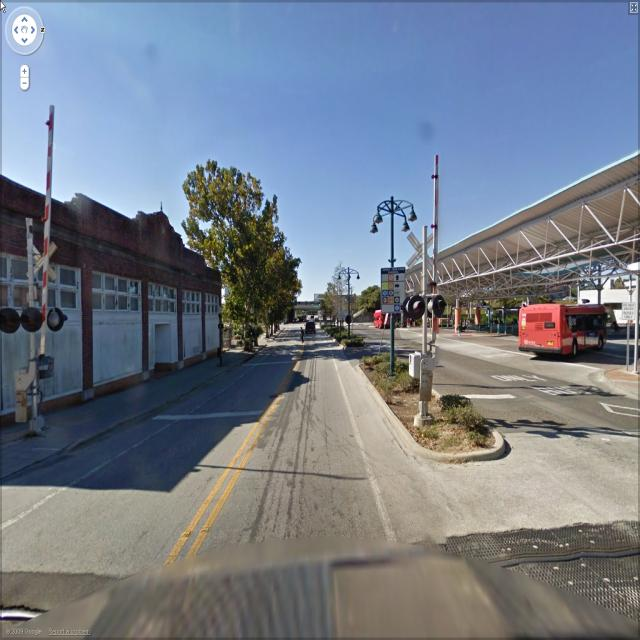b_1: (0, 165, 230, 429)
